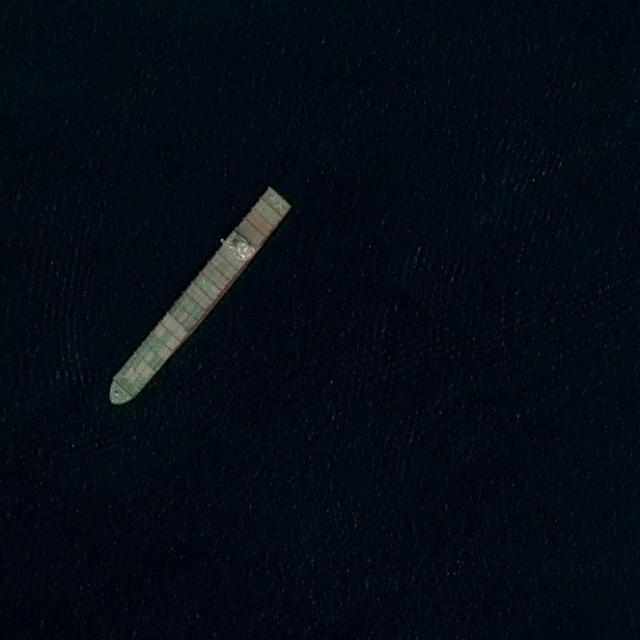Container Ship: (99, 184, 296, 417)
